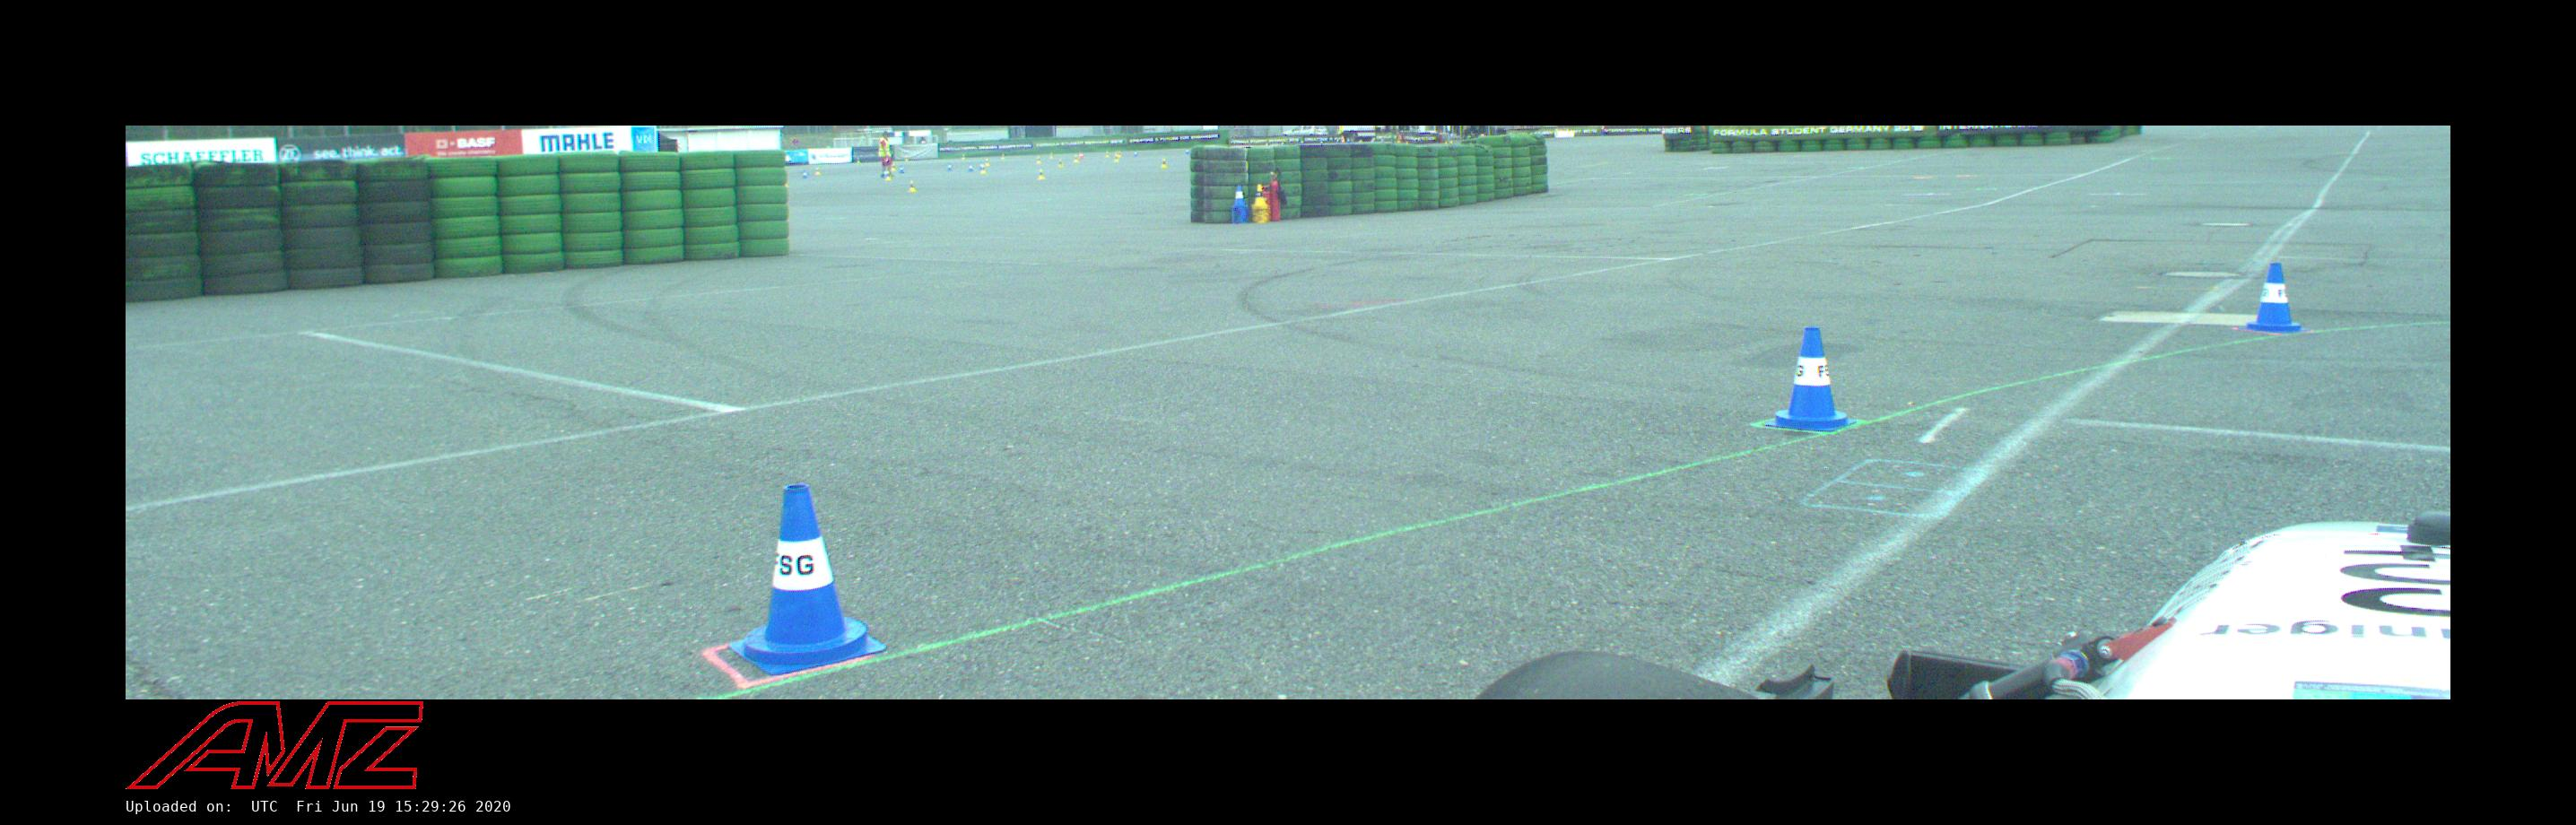blue_cone: (728, 485, 887, 675), (1764, 327, 1856, 434), (2239, 263, 2308, 332), (1232, 182, 1247, 207), (946, 163, 953, 171), (802, 171, 808, 179), (968, 163, 973, 173), (899, 164, 904, 173), (979, 163, 984, 171), (1184, 148, 1189, 154), (1134, 151, 1138, 156)
orange_cone: (1079, 151, 1084, 159)
yellow_cone: (1250, 184, 1267, 207), (909, 181, 917, 192), (1038, 169, 1046, 179), (1160, 158, 1166, 168), (815, 166, 821, 174), (885, 173, 892, 181), (1073, 154, 1079, 163), (981, 164, 987, 173), (890, 163, 897, 171), (984, 159, 991, 166), (1058, 159, 1063, 168), (1037, 156, 1042, 164), (1114, 154, 1119, 163), (1050, 151, 1055, 159), (1001, 153, 1005, 159), (904, 156, 909, 161), (1117, 151, 1120, 158), (961, 154, 964, 161), (1106, 151, 1109, 156)
